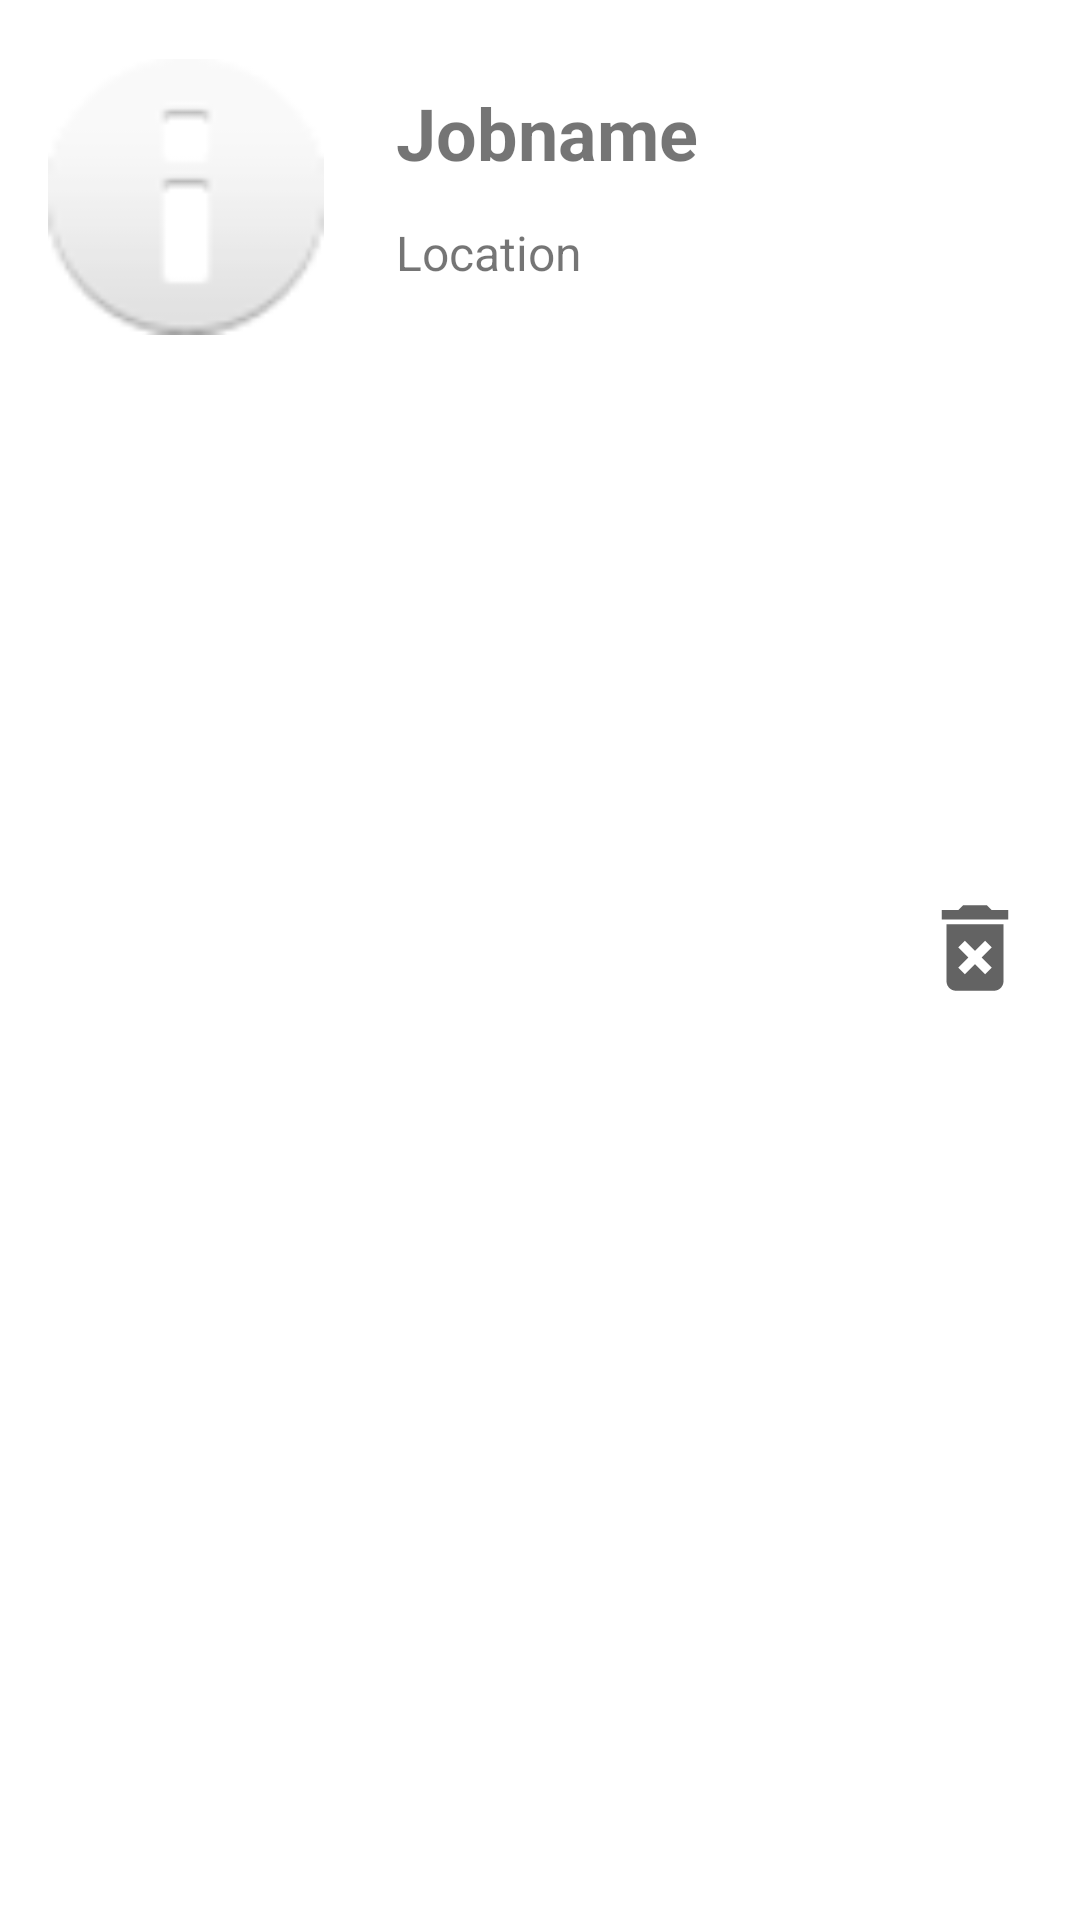

Where icons sit on this 1080 x 1920 app screen, as (x1, y1, x2, y2):
delete forever: (941, 905, 1009, 991)
info: (48, 109, 324, 335)
